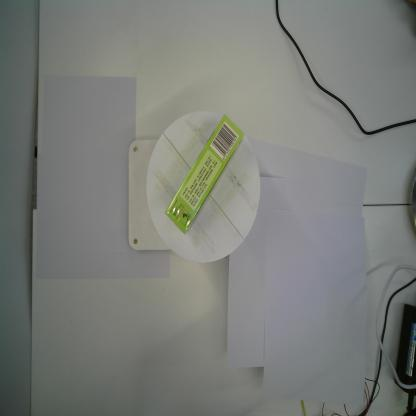Instant Drink: (166, 114, 244, 234)
